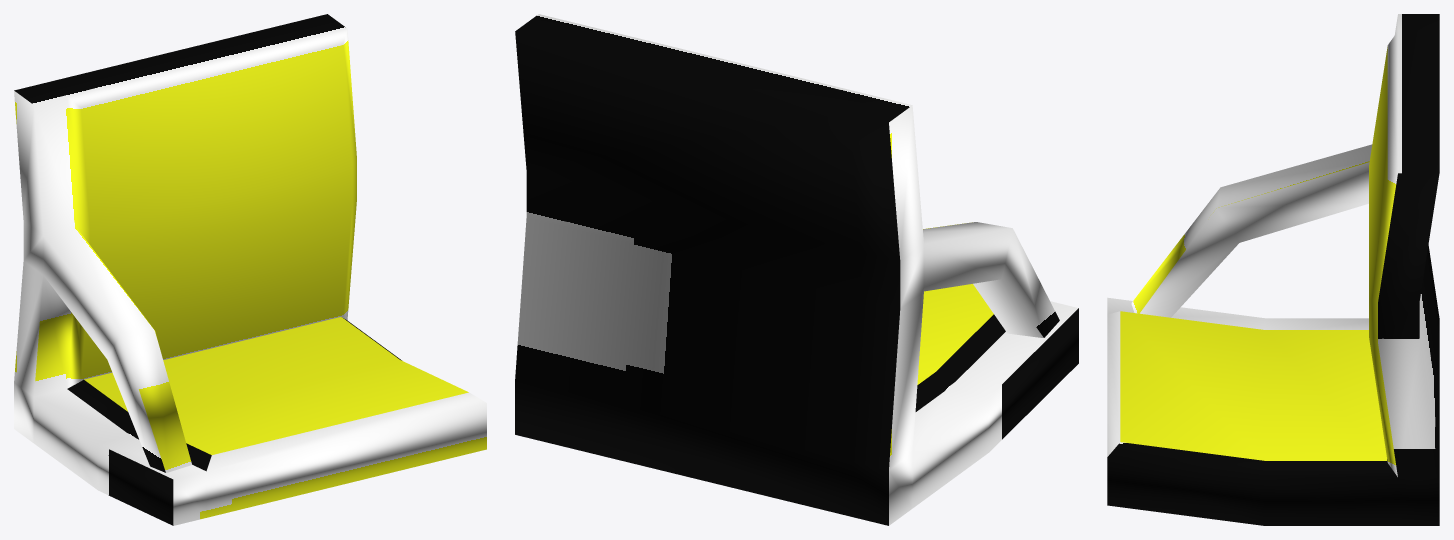
The model's file is subwayChair.glb.
3 renders of one model, left to right at view 1: azimuth 30°, elevation 25°; view 2: azimuth 150°, elevation 25°; view 3: azimuth 270°, elevation 25°, orthographic. The views are drawn at different scales.
Parts seen in each view (by area): view 1: Cube; view 2: Cube; view 3: Cube.
Part boxes in pixels (x1,y1,x2,y2): Cube: (14, 14, 486, 525); Cube: (515, 14, 1078, 525); Cube: (1107, 14, 1439, 525).
Size of the model in its own units: 2.24 by 2.31 by 1.97.
1 material, 1 textured.
